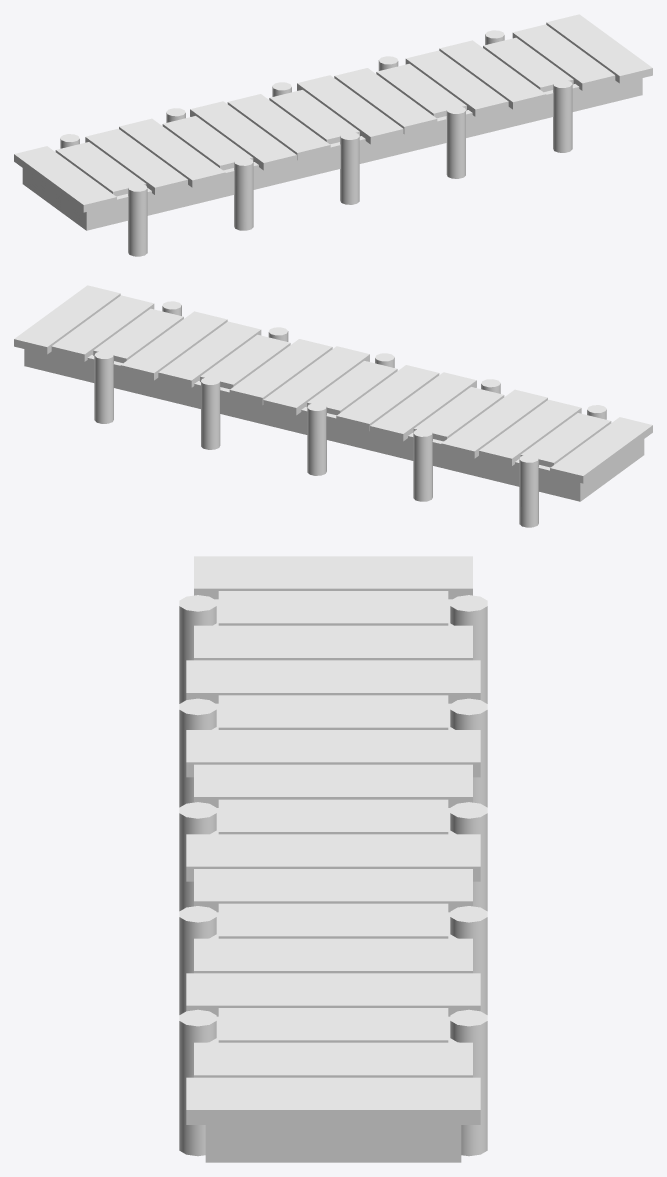
File: Fishing_Zone_00.fbx
The picture shows the model from 3 angles, top to bottom: view 1: azimuth 30°, elevation 25°; view 2: azimuth 150°, elevation 25°; view 3: azimuth 270°, elevation 25°; orthographic projection. The views are drawn at different scales.
Parts seen in each view (by area): view 1: Fishing_Zone_00; view 2: Fishing_Zone_00; view 3: Fishing_Zone_00.
Part boxes in pixels (bbox=[...]): Fishing_Zone_00: bbox=[14, 14, 652, 256]; Fishing_Zone_00: bbox=[14, 285, 652, 527]; Fishing_Zone_00: bbox=[179, 556, 487, 1162].
Size of the model in its own units: 891 by 97.41 by 210.
1 material, 1 textured.
